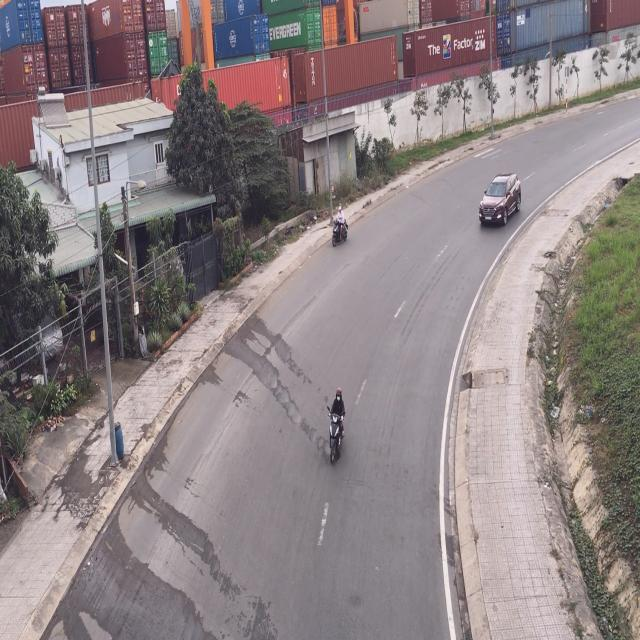car: (478, 174, 522, 229)
motorbike: (325, 387, 346, 467), (332, 208, 352, 250)
